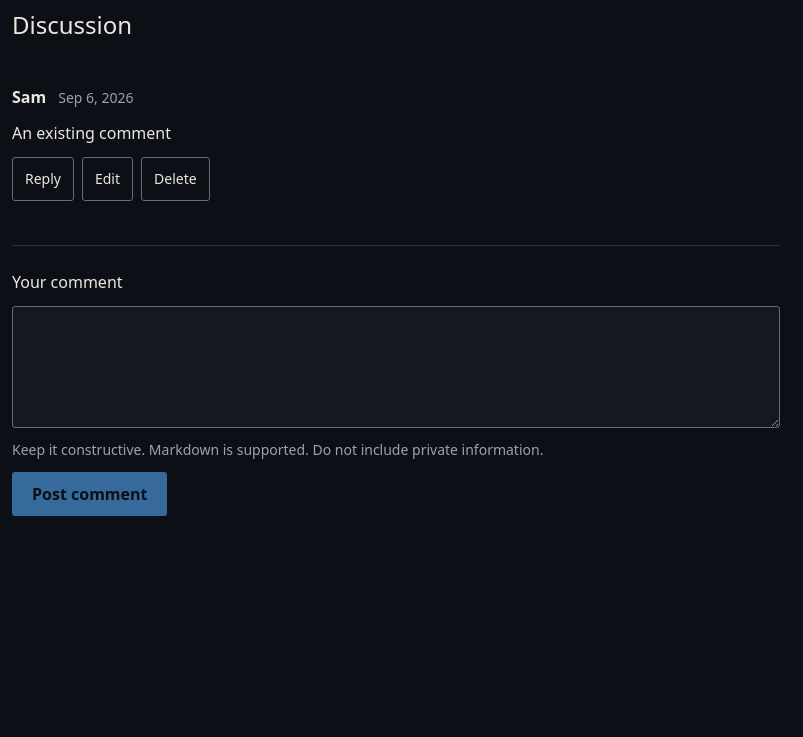
Test case: posts replies with their parent and shows the saved comment
Click the button "Reply" at x=43, y=179, box [12,157,74,201]
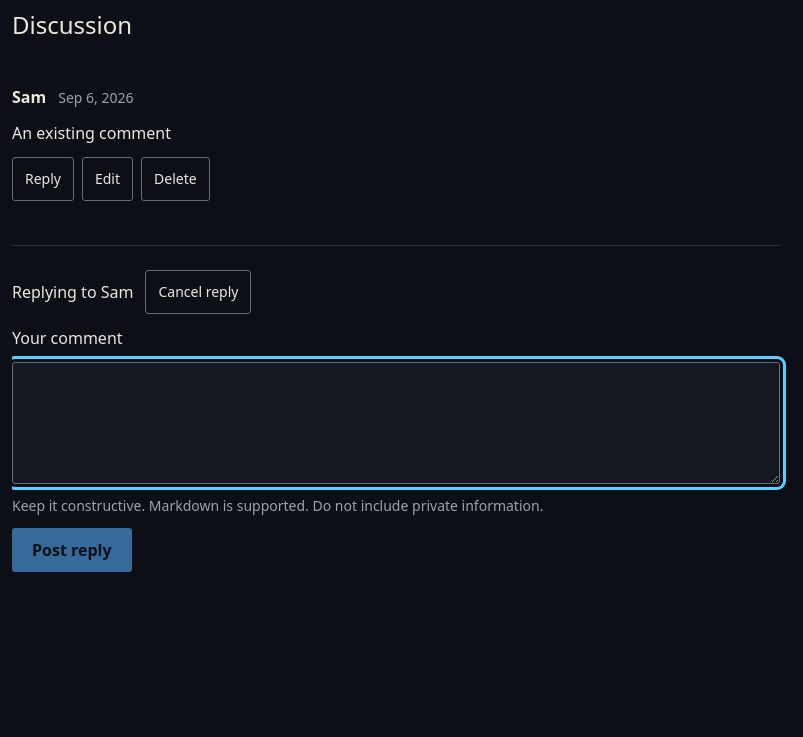
Type "A useful reply" into the text box labelled "Your comment" at x=396, y=423, box [12,362,780,484]
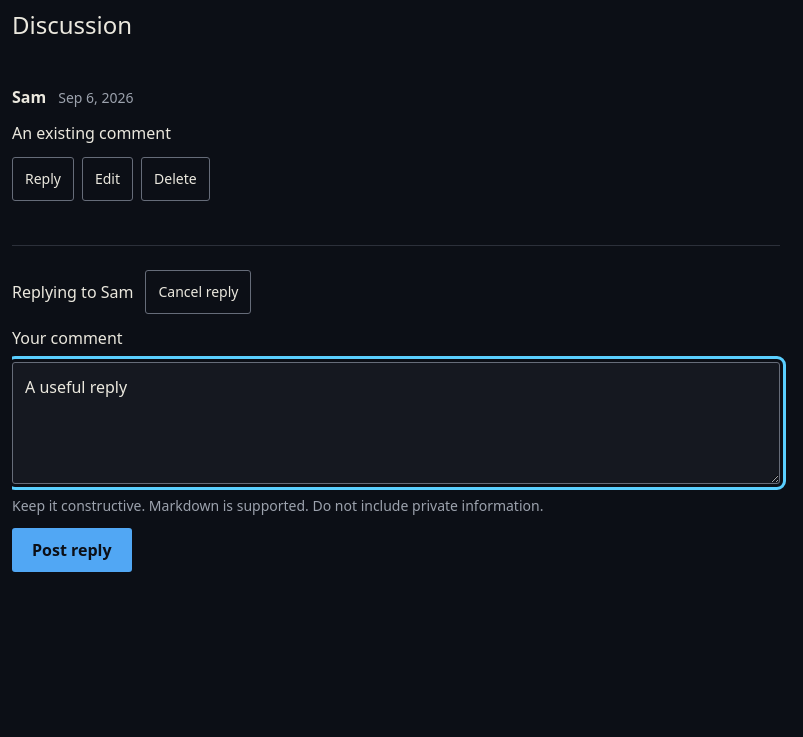
Click the button "Post reply" at x=72, y=550, box [12,528,132,572]
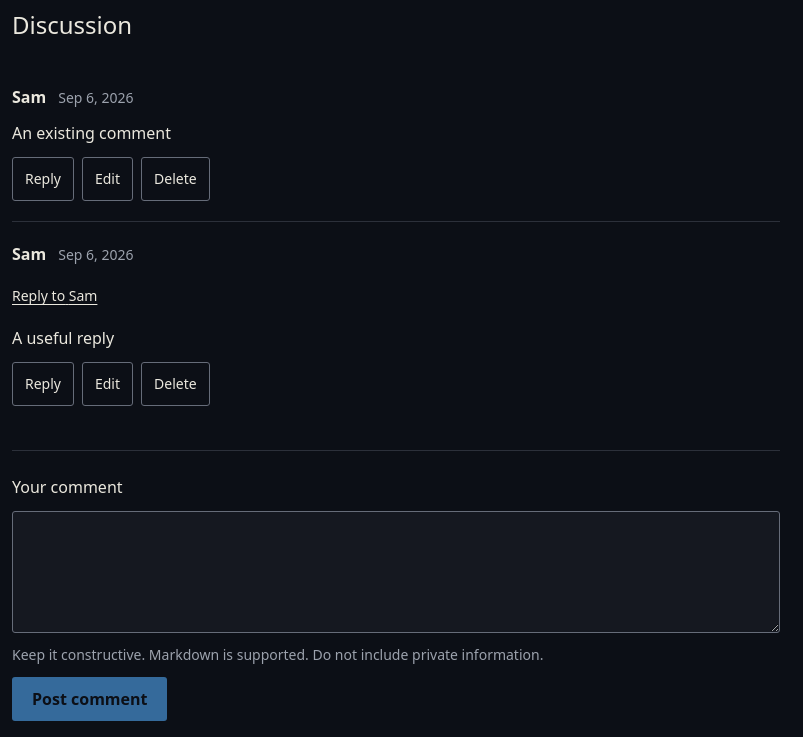
expect the text "A useful reply" is shown: met, box [12,327,114,349]
expect the text box labelled "Your comment" is empty: met, box [12,511,780,633]
